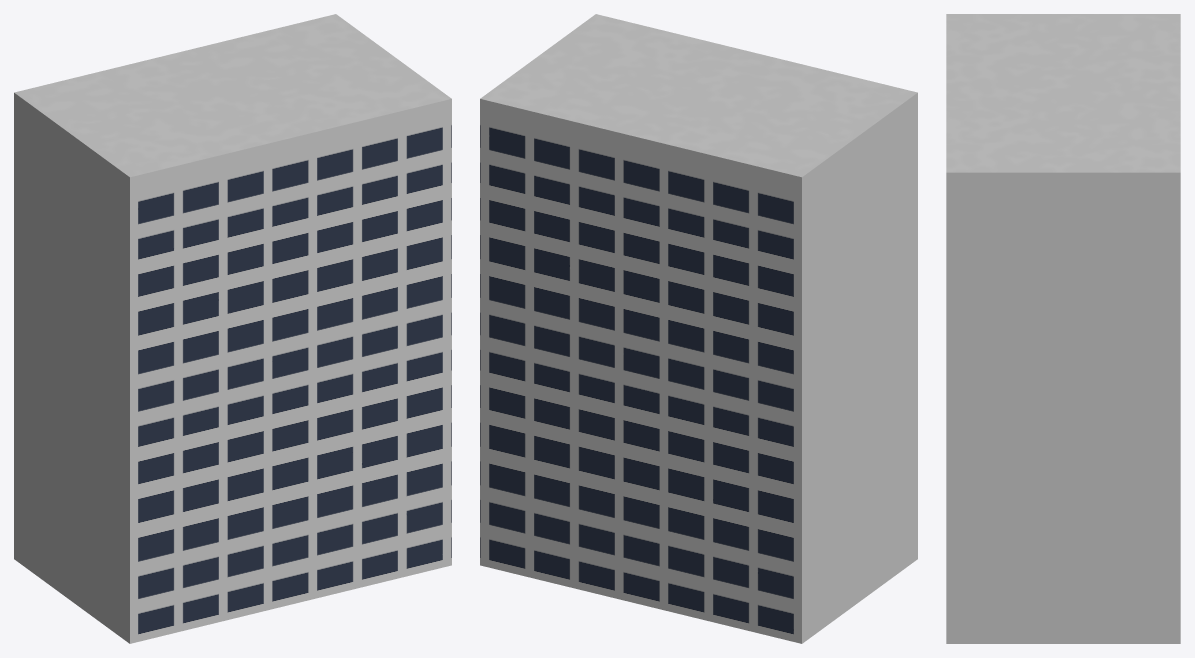
Rendered from Building_S_W4_a_001.fbx.
3 renders of one model, left to right at view 1: azimuth 30°, elevation 25°; view 2: azimuth 150°, elevation 25°; view 3: azimuth 270°, elevation 25°, orthographic.
Visible parts, largest first — view 1: Building_S_W4_001; view 2: Building_S_W4_001; view 3: Building_S_W4_001.
Part boxes in pixels (left/top/right/bottom): Building_S_W4_001: left=14, top=14, right=451, bottom=643; Building_S_W4_001: left=480, top=14, right=917, bottom=643; Building_S_W4_001: left=946, top=14, right=1180, bottom=643.
Bounding box in the file's own units: 39.62 × 54.87 × 24.69.
